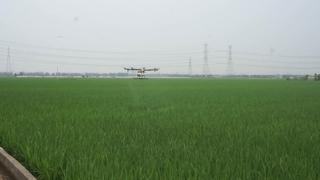UAV: (122, 68, 160, 80)
